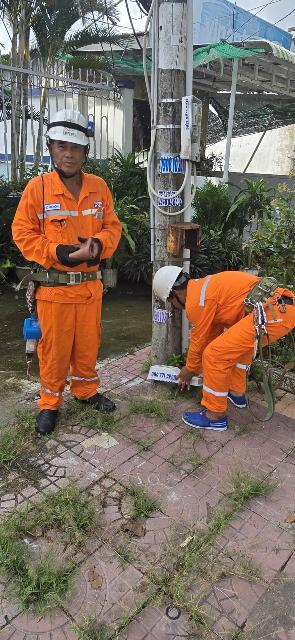gloves: (37, 229, 90, 276), (68, 231, 109, 268)
harness: (23, 251, 113, 300), (232, 267, 288, 317)
helmet: (135, 253, 189, 309), (35, 104, 98, 146)
shoes: (158, 406, 240, 437), (29, 391, 62, 440), (80, 383, 122, 418), (219, 384, 249, 410)
